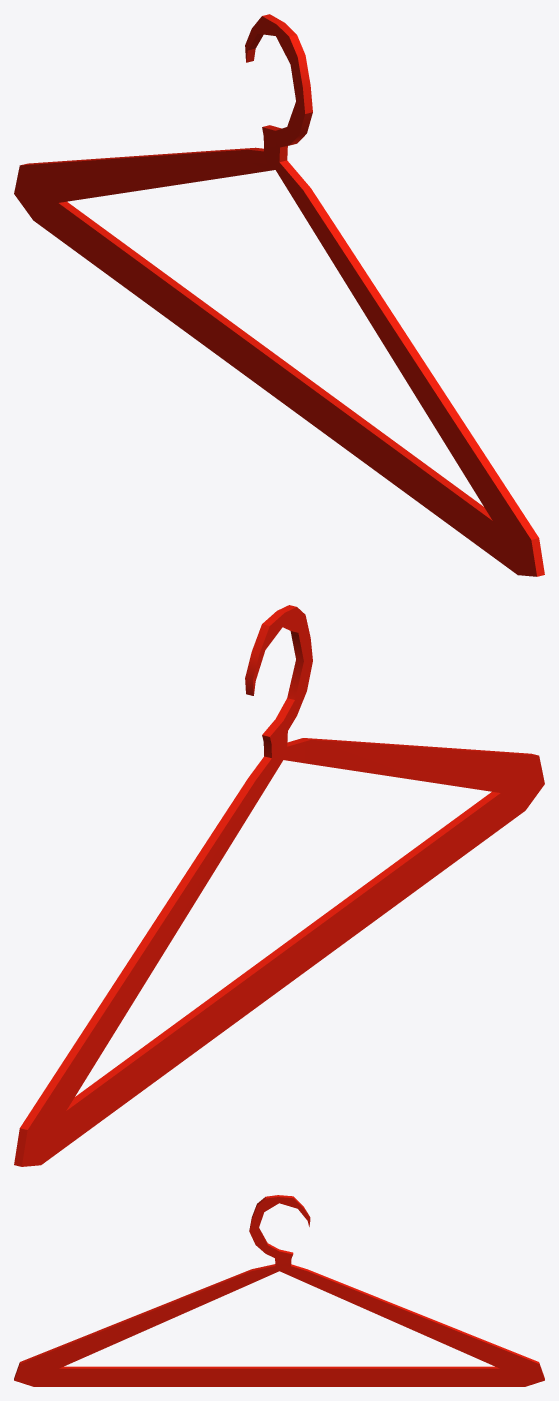
File: Hanger_D.FBX
3 renders of one model, top to bottom at view 1: azimuth 30°, elevation 25°; view 2: azimuth 150°, elevation 25°; view 3: azimuth 270°, elevation 25°, orthographic. The views are drawn at different scales.
Parts seen in each view (by area): view 1: Hanger; view 2: Hanger; view 3: Hanger.
Boxes of the visible parts, left/top/right/bottom form: Hanger: left=14, top=14, right=544, bottom=576; Hanger: left=14, top=605, right=544, bottom=1166; Hanger: left=14, top=1195, right=544, bottom=1386.
Bounding box in the file's own units: 1.01 × 45.57 × 115.
